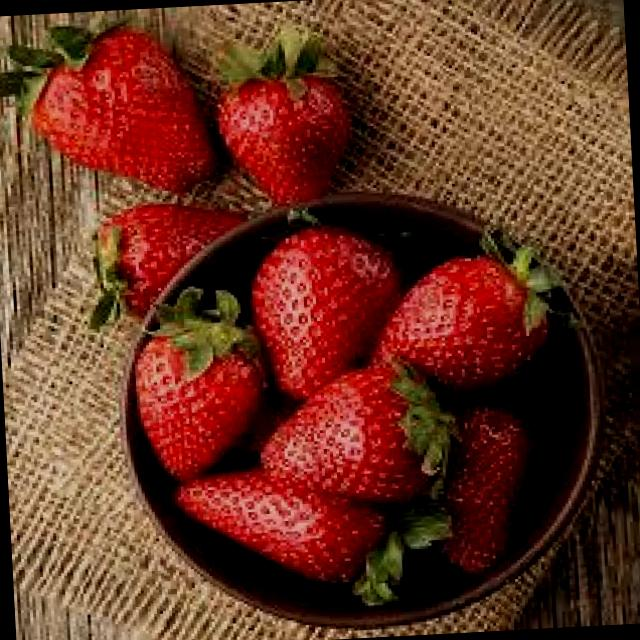strawberry: (0, 13, 211, 200), (150, 470, 422, 604), (362, 255, 572, 400), (207, 28, 365, 214), (231, 206, 396, 384), (251, 370, 454, 510), (136, 302, 265, 474)
